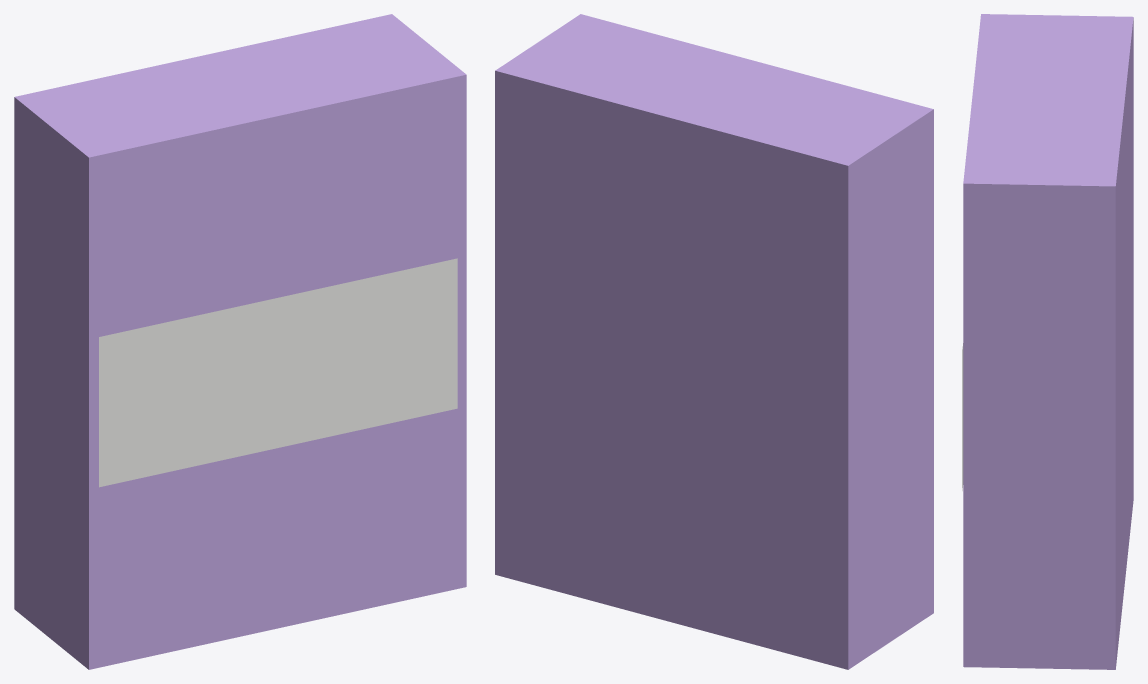
Rendered from Powder_1.fbx.
The picture shows the model from 3 angles, left to right: view 1: azimuth 30°, elevation 25°; view 2: azimuth 150°, elevation 25°; view 3: azimuth 270°, elevation 25°; orthographic projection. The views are drawn at different scales.
Parts seen in each view (by area): view 1: Powder_1; view 2: Powder_1; view 3: Powder_1.
Part boxes in pixels (box(x1,y1,x2,y2)): Powder_1: box(14, 14, 466, 669); Powder_1: box(495, 14, 933, 669); Powder_1: box(962, 14, 1133, 669).
Size of the model in its own units: 32.39 by 13.58 by 42.34.
